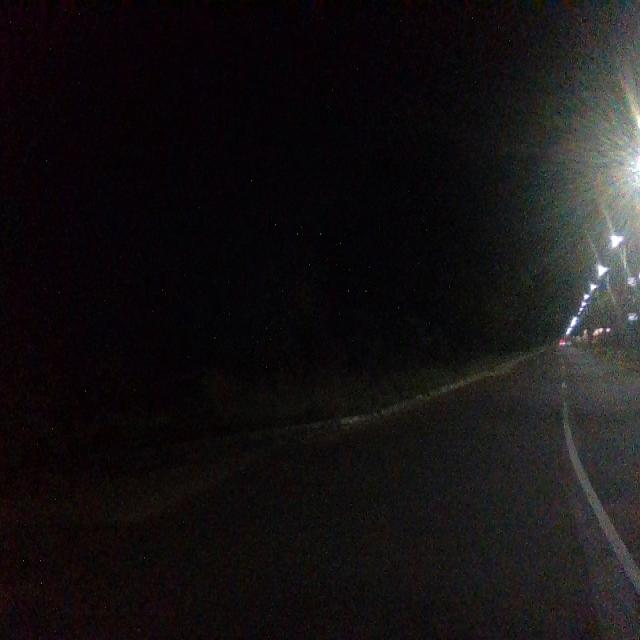lane: (0, 358, 640, 640)
